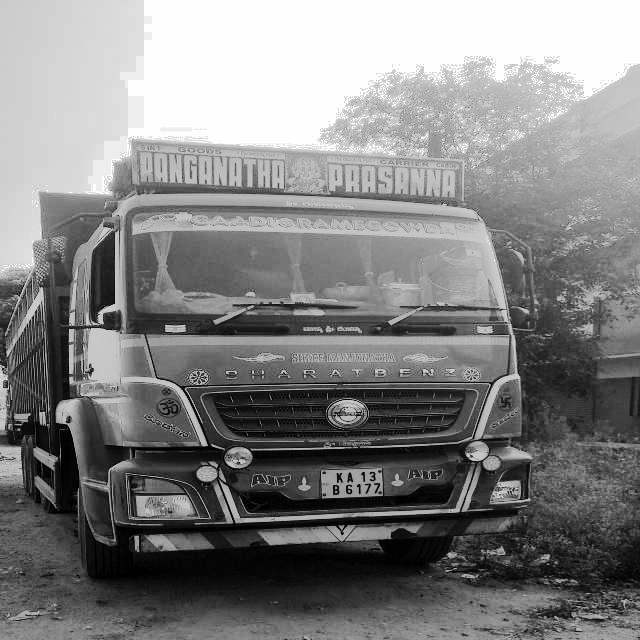HCV: (59, 140, 531, 640)
